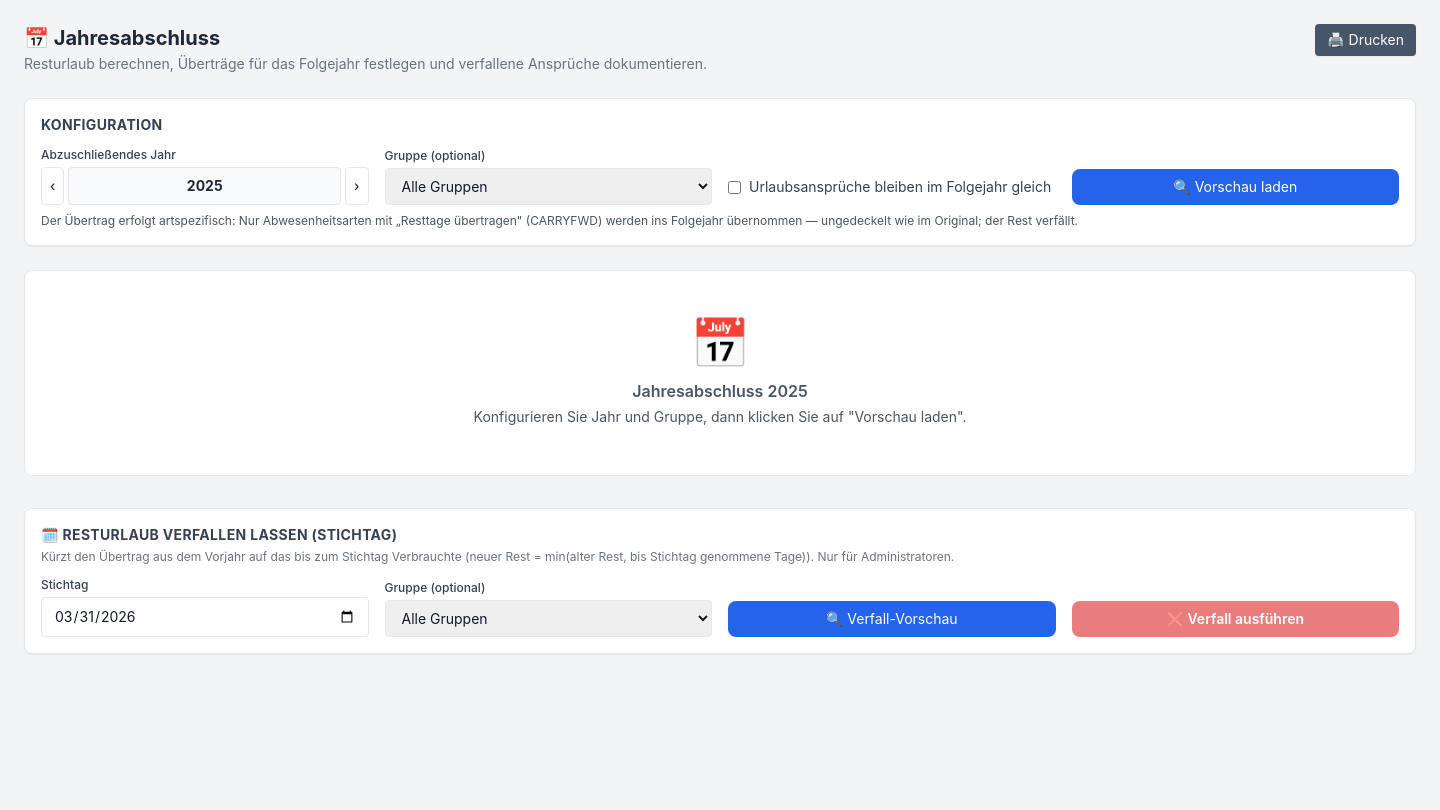
Test: Jahresabschluss page — Optionen (V-17) und Verfall (V-13) › reicht keep_entitlements als Query-Parameter an die Vorschau durch
This screenshot has width=1440, height=810.
Click the checkbox labelled "Urlaubsansprüche bleiben im Folgejahr gleich". click: (734, 187)
box: [728,180,741,194]
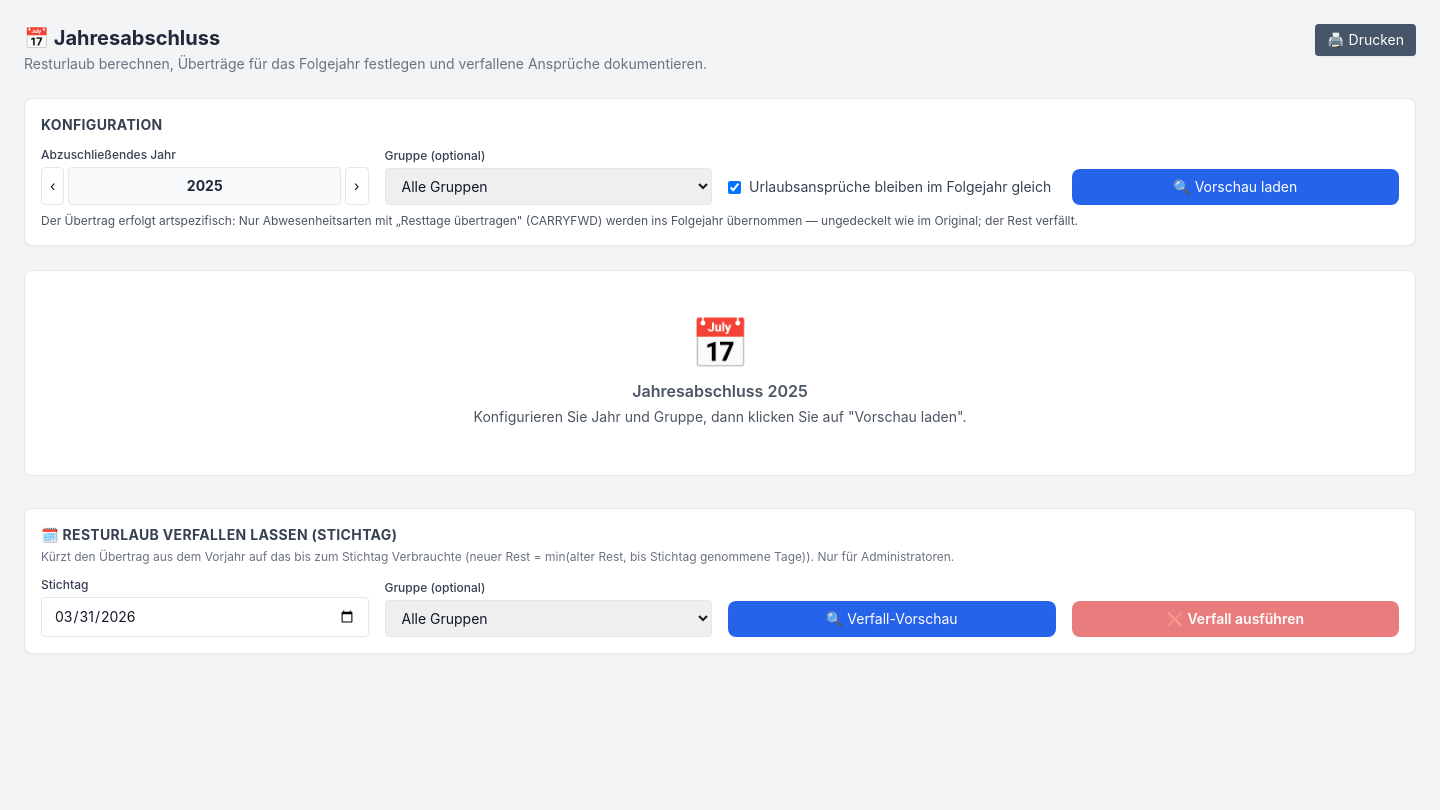
Click the button "🔍 Vorschau laden". click: (1235, 187)
box: [1072,169,1399,205]
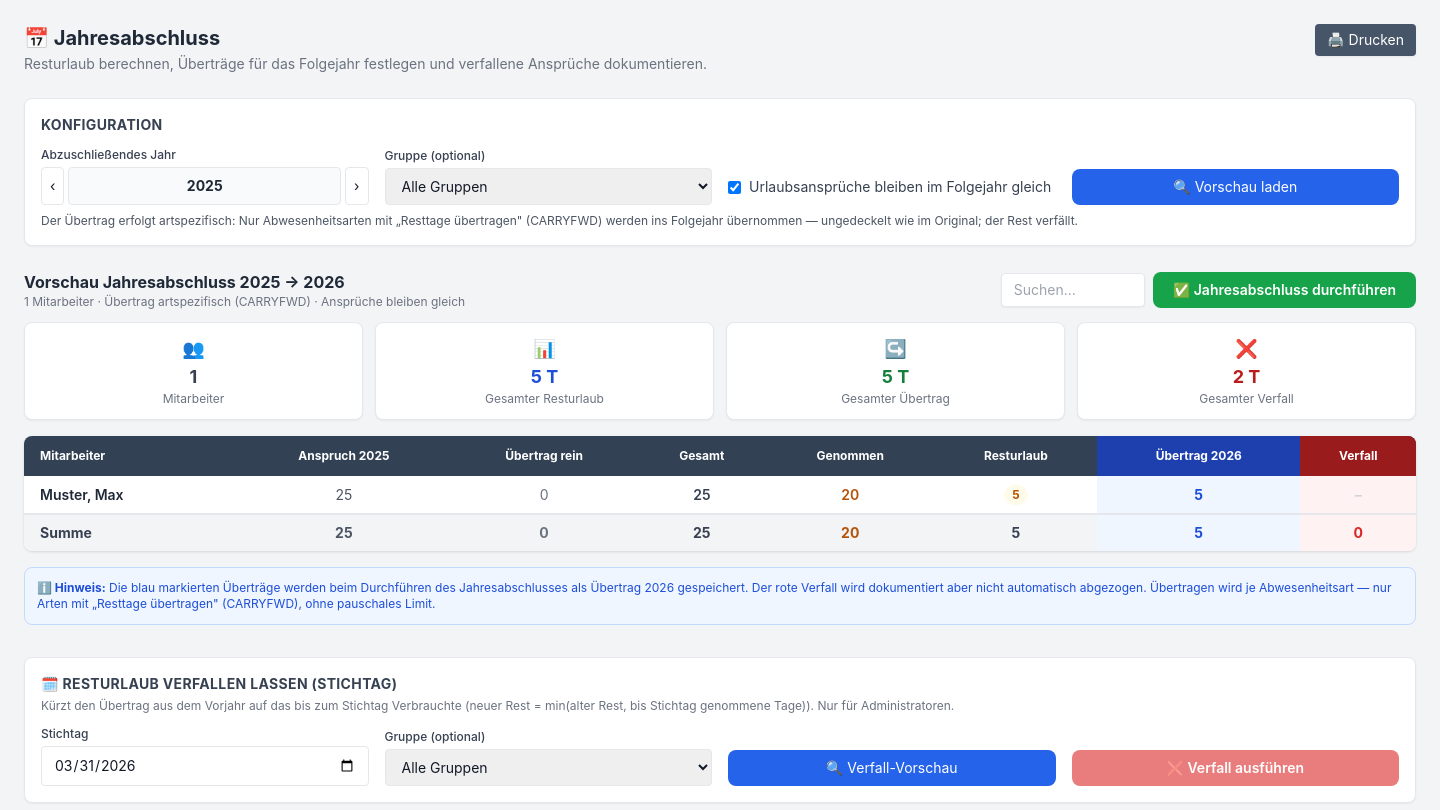
Check: the text "Muster, Max" is shown, box [40,486,124,502]
